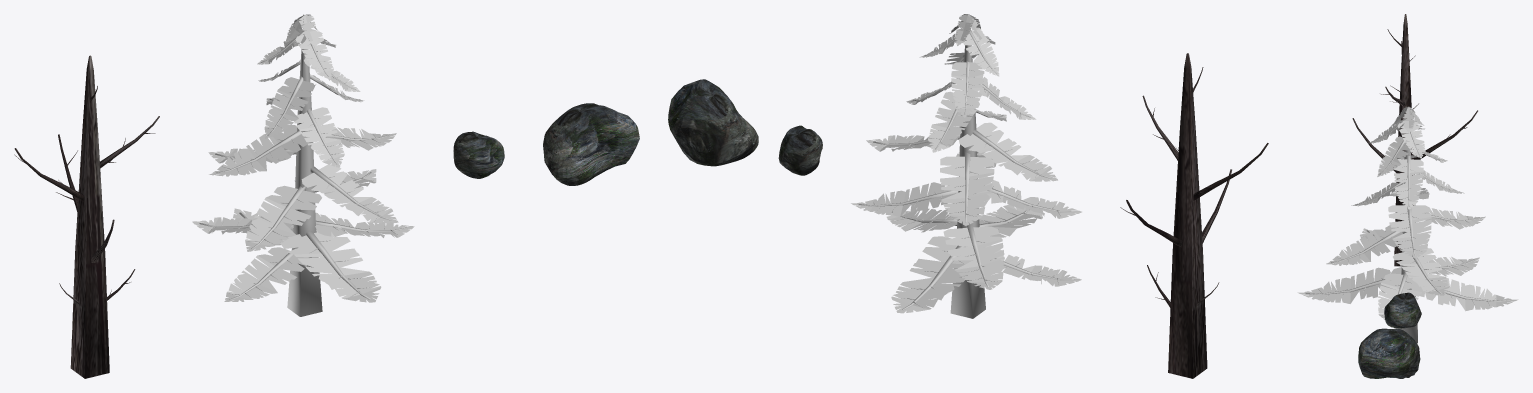
Rendered from testtrees.fbx.
3 views of the same model, side by side, from view 1: azimuth 30°, elevation 25°; view 2: azimuth 150°, elevation 25°; view 3: azimuth 270°, elevation 25° (orthographic). The views are drawn at different scales.
Visible parts, largest first — view 1: Tree, DTree, Sphere, RockOne; view 2: Tree, DTree, Sphere, RockOne; view 3: Tree, Sphere, DTree, RockOne.
Boxes of the visible parts, box(x1,y1,x2,y2) form: Tree: box(192, 14, 414, 316); DTree: box(14, 55, 159, 378); Sphere: box(543, 103, 639, 185); RockOne: box(453, 131, 504, 178); Tree: box(851, 14, 1081, 318); DTree: box(1120, 53, 1268, 378); Sphere: box(668, 79, 758, 166); RockOne: box(778, 125, 822, 175); Tree: box(1297, 106, 1518, 343); Sphere: box(1358, 328, 1420, 378); DTree: box(1352, 14, 1477, 266); RockOne: box(1384, 292, 1421, 328).
Size of the model in its own units: 2744 by 1362 by 1104.
